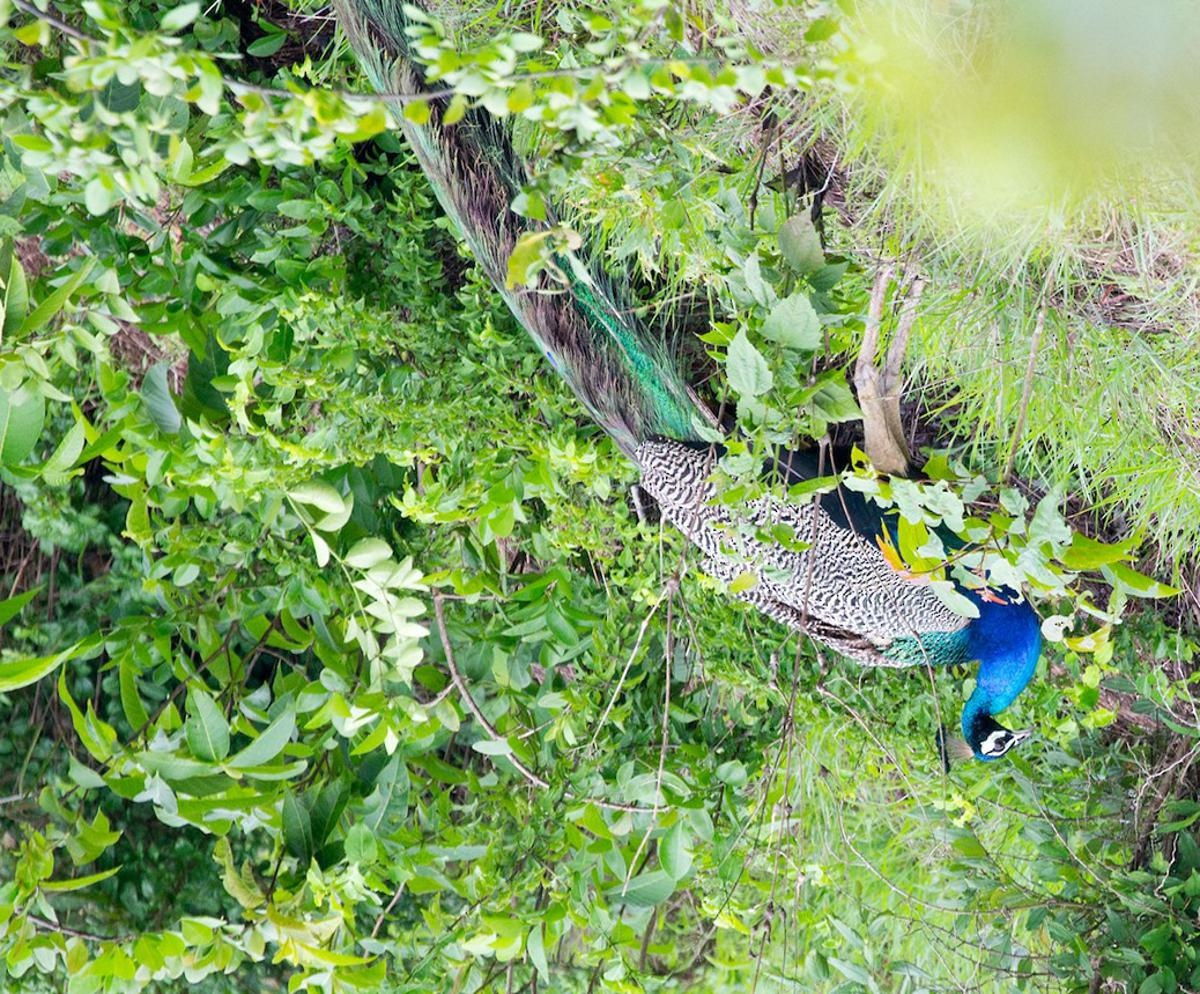peacock: (289, 73, 1073, 774)
